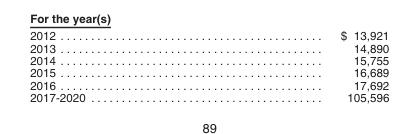table: (29, 28, 388, 103)
table column: (29, 28, 212, 103), (212, 28, 388, 103)
table row: (29, 28, 388, 41), (29, 53, 388, 66), (29, 90, 388, 103), (29, 41, 388, 53), (29, 66, 388, 78), (29, 78, 388, 90)
